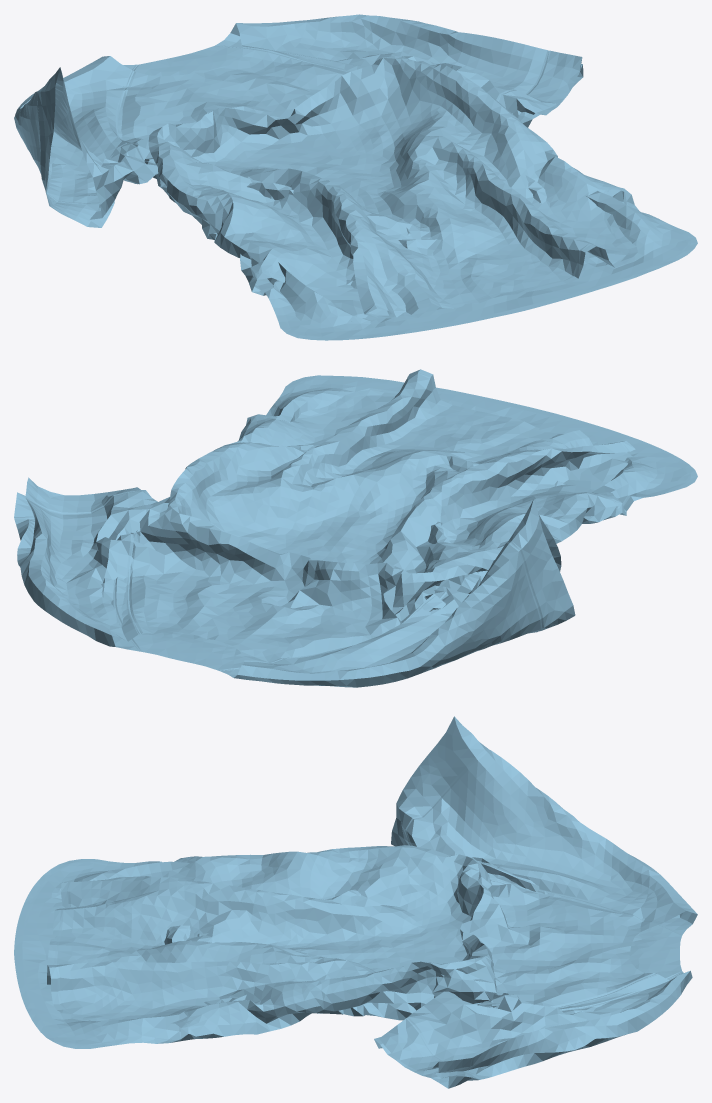
File: frame_06.glb
The picture shows the model from 3 angles, top to bottom: view 1: azimuth 30°, elevation 25°; view 2: azimuth 150°, elevation 25°; view 3: azimuth 270°, elevation 25°; orthographic projection. The views are drawn at different scales.
Visible parts, largest first — view 1: frame_06.obj; view 2: frame_06.obj; view 3: frame_06.obj.
Boxes of the visible parts, x1,y1,x2,y2 form: frame_06.obj: [14, 14, 697, 340]; frame_06.obj: [14, 369, 697, 687]; frame_06.obj: [14, 716, 697, 1088].
Bounding box in the file's own units: 1.62 × 0.3981 × 1.83.
